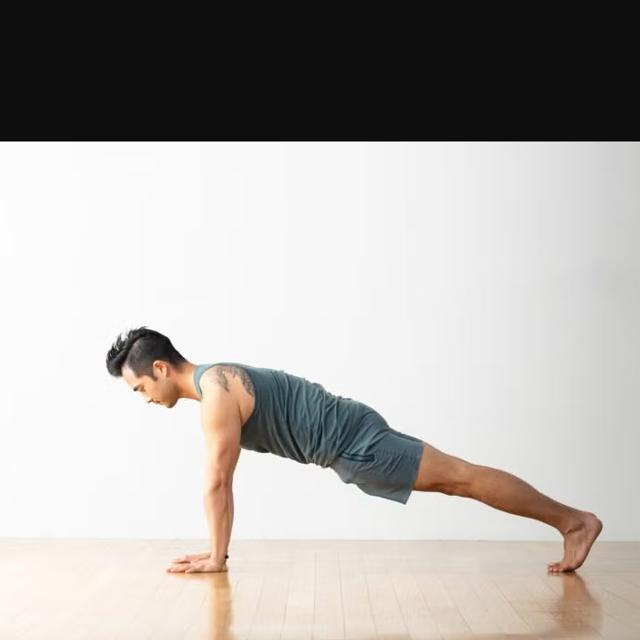Plank_Pose: (108, 328, 611, 586)
